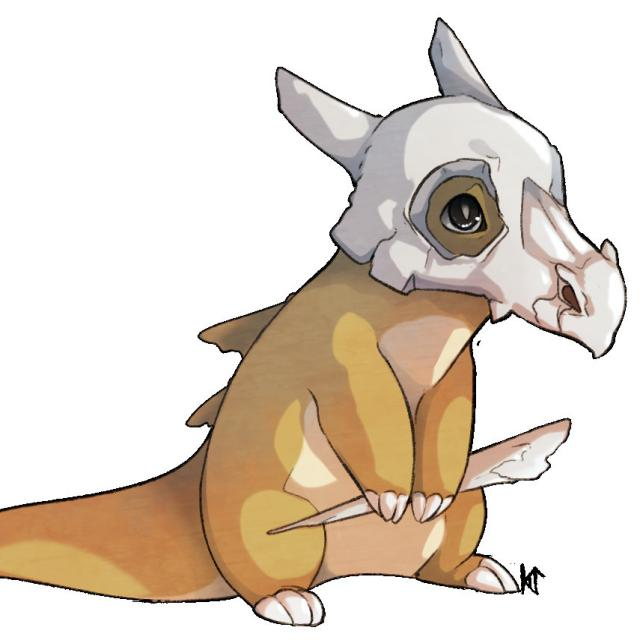Cubone: (170, 19, 623, 619)
